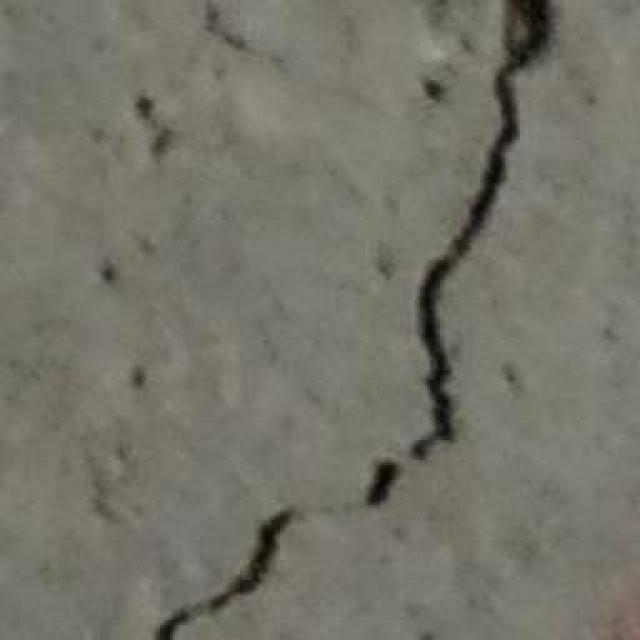Longitudinal: (80, 0, 554, 640)
